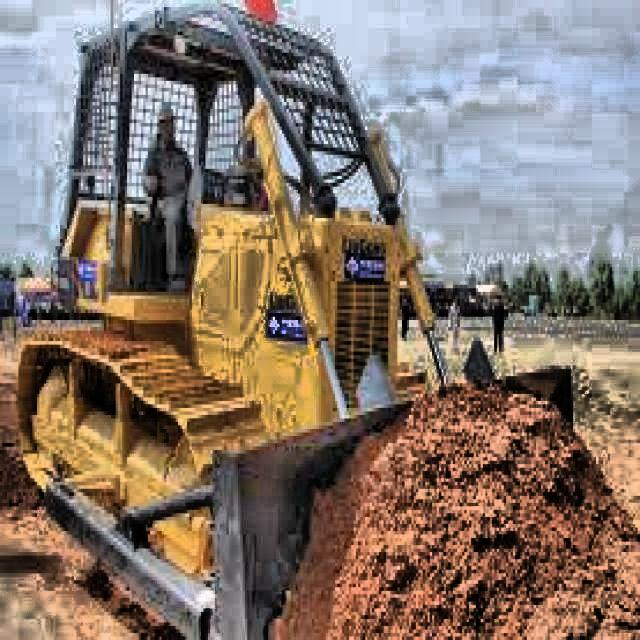bull_dozer/loader/grader: (14, 0, 575, 640)
person: (140, 103, 203, 299)
